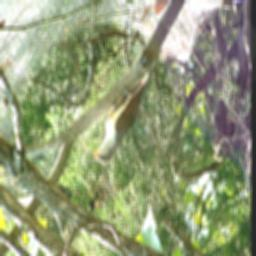Cuckoo: (90, 49, 162, 166)
